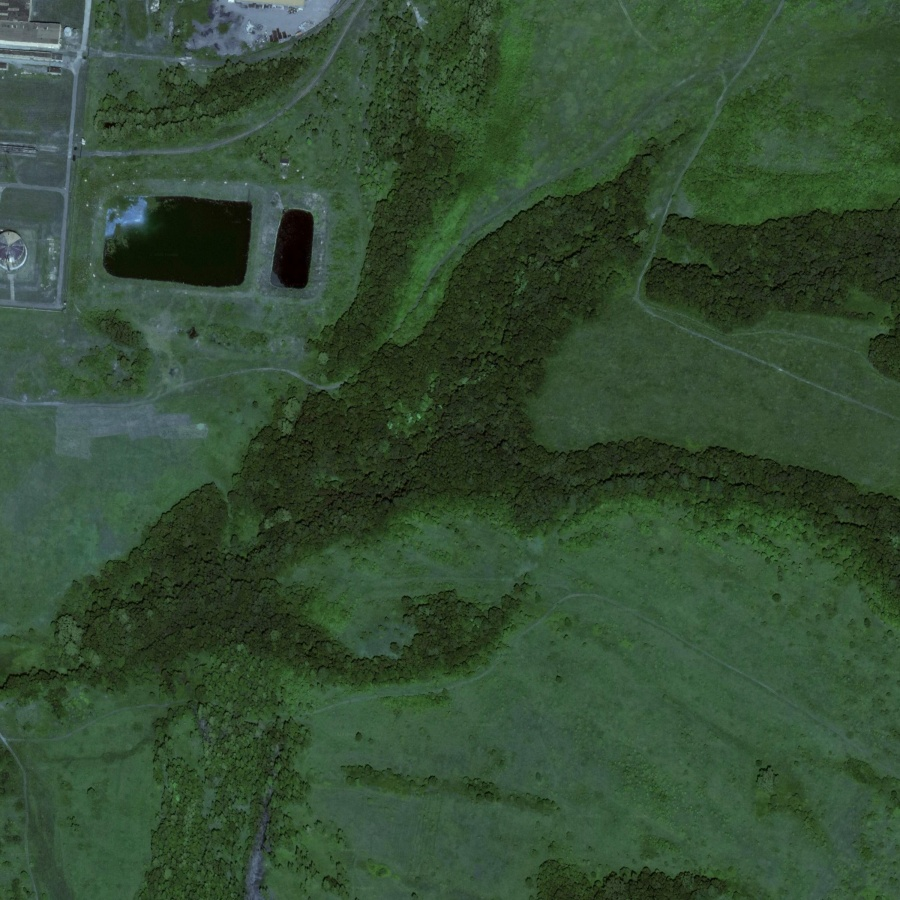PowerPlant: (93, 182, 327, 309)
